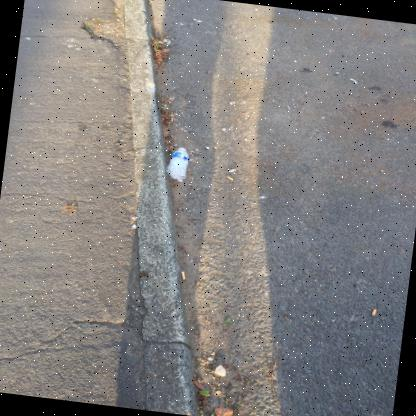Cigarette: (370, 308, 376, 316), (349, 78, 357, 84), (227, 176, 233, 181), (181, 271, 184, 279)
Clear plastic bottle: (165, 147, 189, 180)
